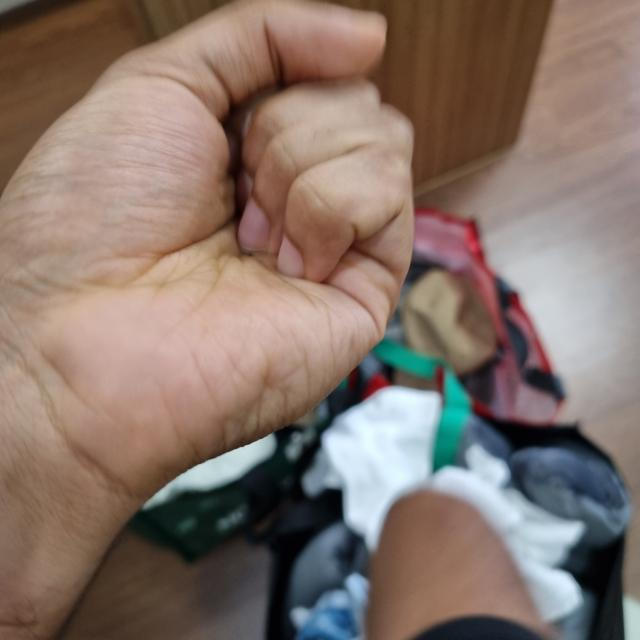Rock: (1, 0, 405, 483)
